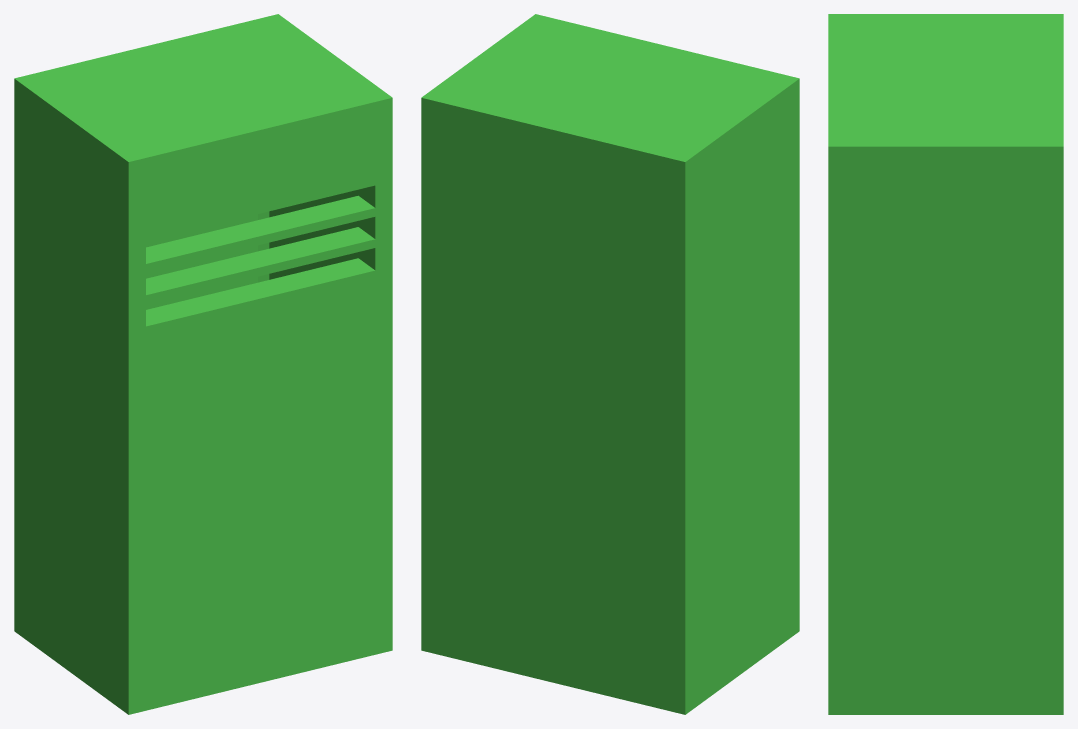
File: lockers.fbx
3 renders of one model, left to right at view 1: azimuth 30°, elevation 25°; view 2: azimuth 150°, elevation 25°; view 3: azimuth 270°, elevation 25°, orthographic. The views are drawn at different scales.
Visible parts, largest first — view 1: armari; view 2: armari; view 3: armari.
Part boxes in pixels (x1,y1,x2,y2): armari: (14,14,392,714); armari: (421,14,799,714); armari: (828,14,1063,714).
Bounding box in the file's own units: 128 × 256 × 96.
